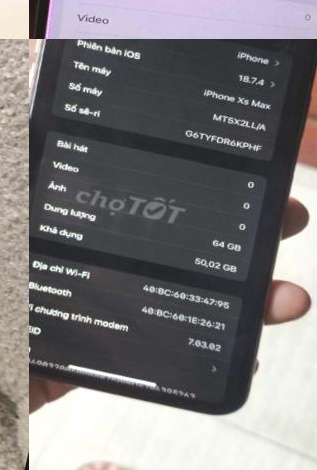screen_defect: (29, 0, 172, 39), (258, 0, 317, 39)
